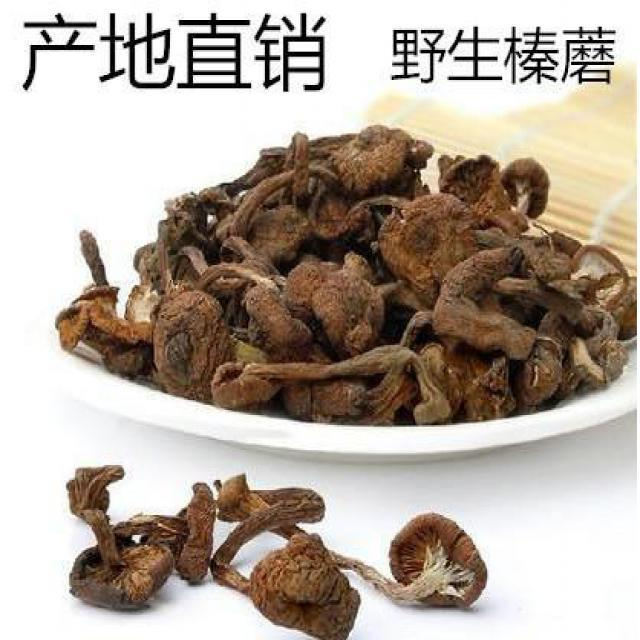Armillaria mellea: (58, 127, 633, 423), (63, 464, 486, 630)
